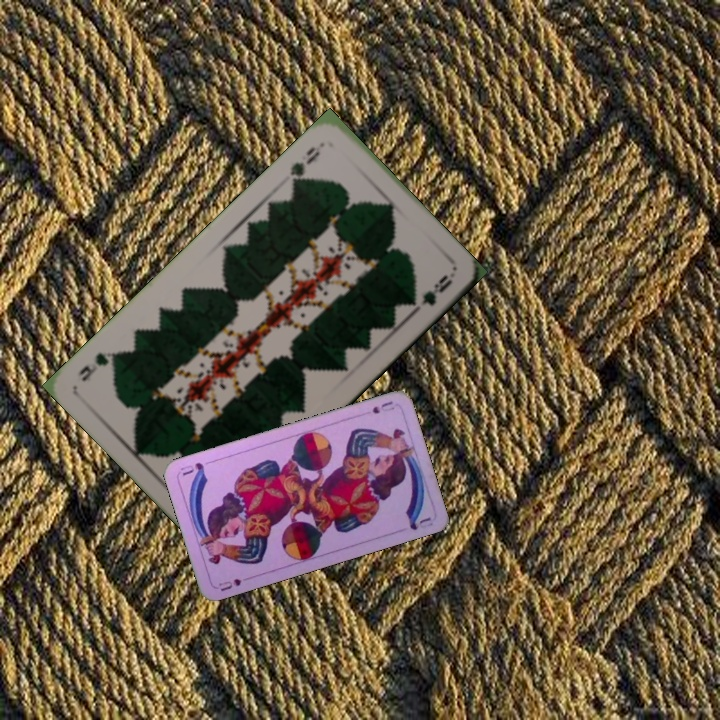G9: (286, 138, 328, 189)
SU: (368, 397, 397, 416), (215, 575, 244, 594)
